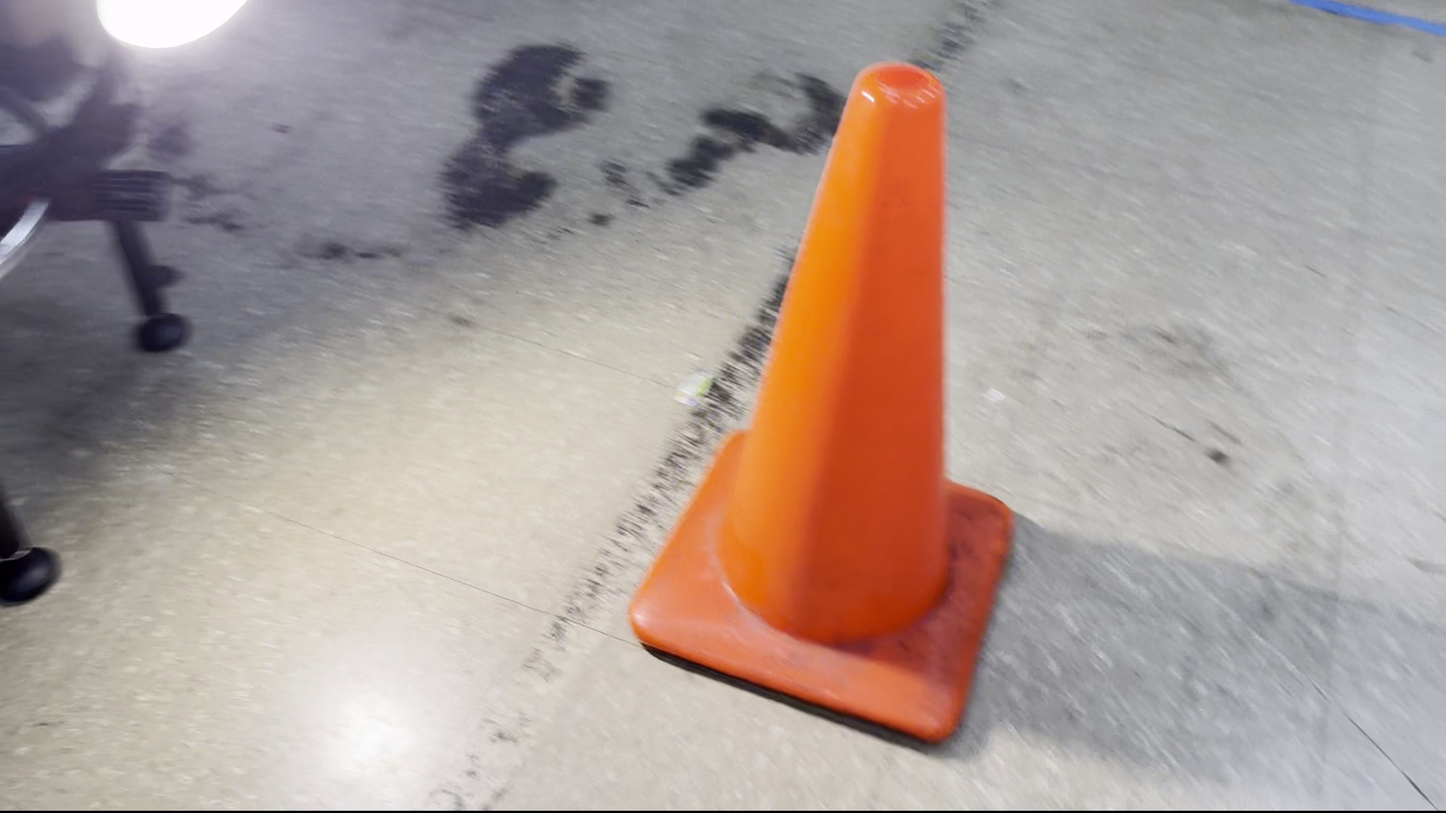traffic_cone: (627, 60, 1015, 746)
